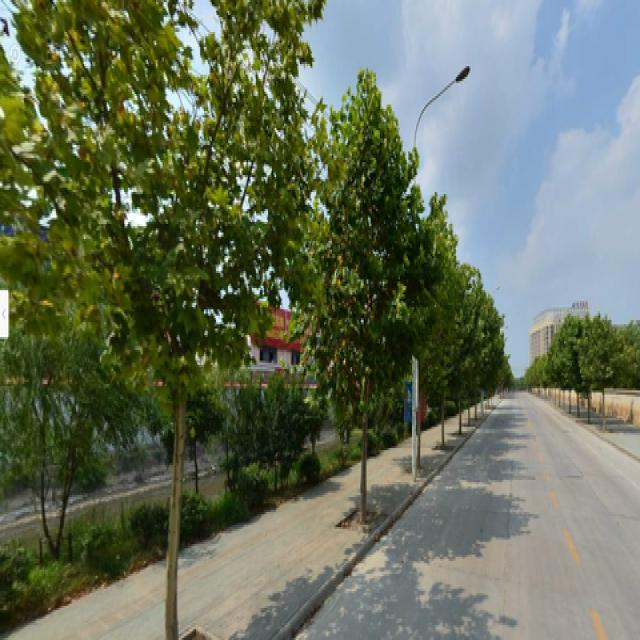meta: (80, 37, 228, 580), (297, 102, 392, 520), (409, 207, 440, 469)
